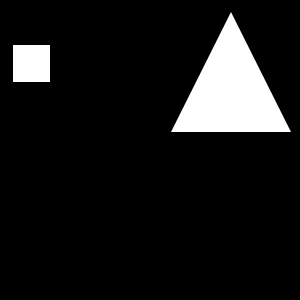circle: (13, 45, 50, 82)
triangle: (171, 12, 291, 132)
